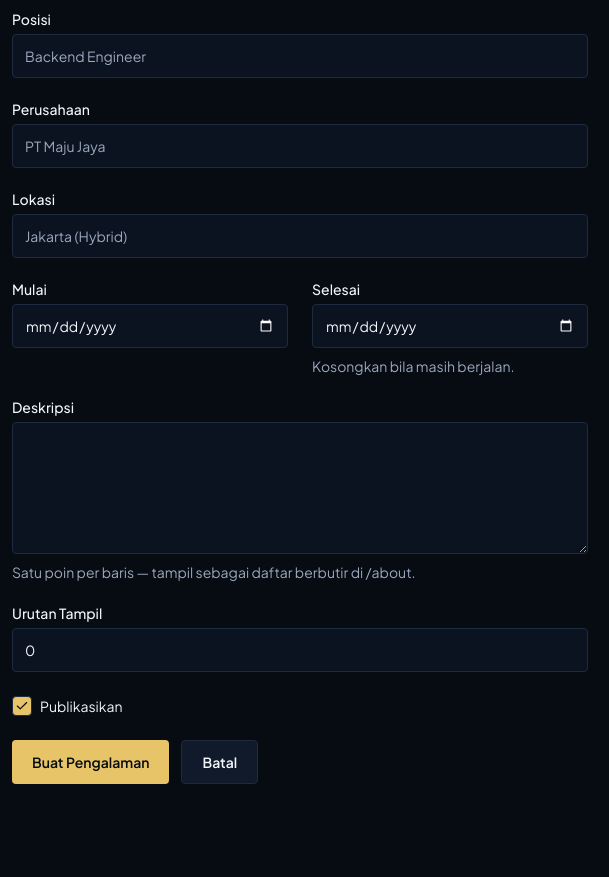
Test: ExperienceForm › menampilkan galat aksesibel dan tidak mengirim saat form kosong
What coordinates should you click on to do the following:
click the button "Buat Pengalaman"
I would click on:
 (91, 762)
Its box is [12, 740, 170, 784].
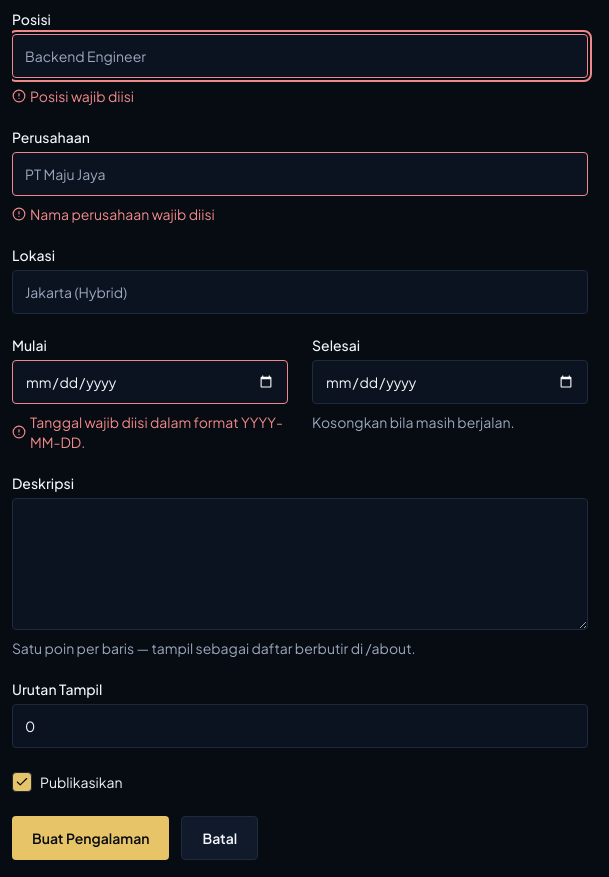
Result: the message "Posisi wajib diisi" is shown at [12, 87, 134, 105]
